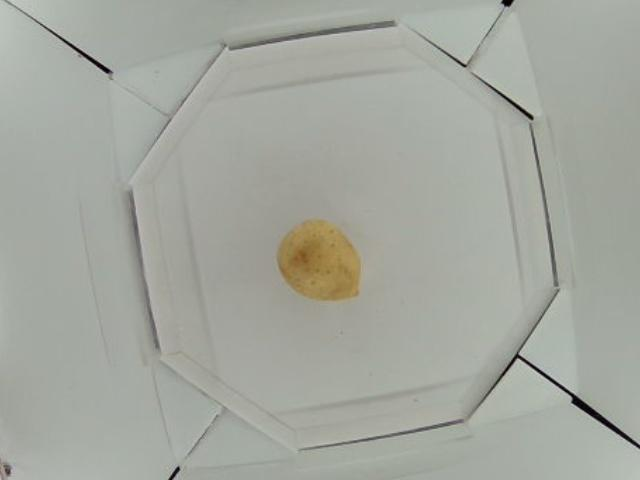Potato: (277, 213, 362, 300)
